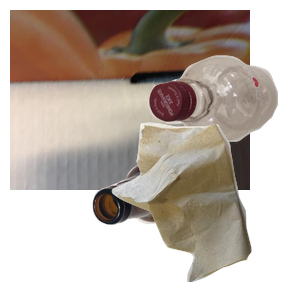cardboard: (10, 10, 250, 190)
glass: (90, 148, 300, 300)
plastic: (146, 53, 300, 187)
trash: (109, 120, 300, 300)
